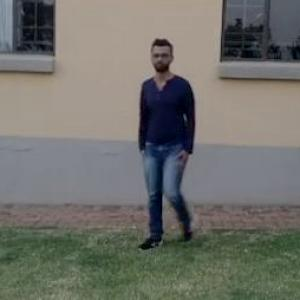follow: (137, 39, 197, 244)
